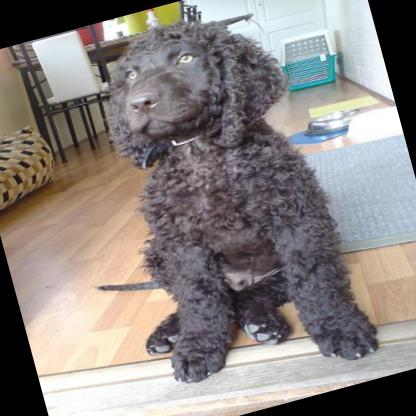Irish_water_spaniel: (64, 0, 380, 409)
